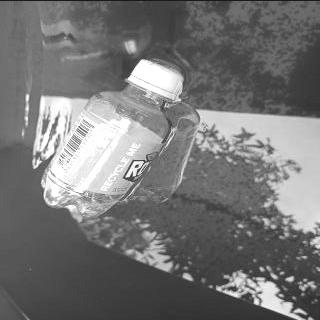bottle: (38, 56, 187, 222)
